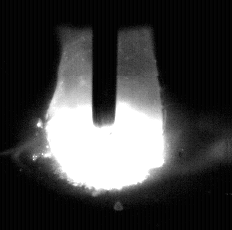arame: (92, 0, 118, 127)
poca: (45, 0, 165, 230)
